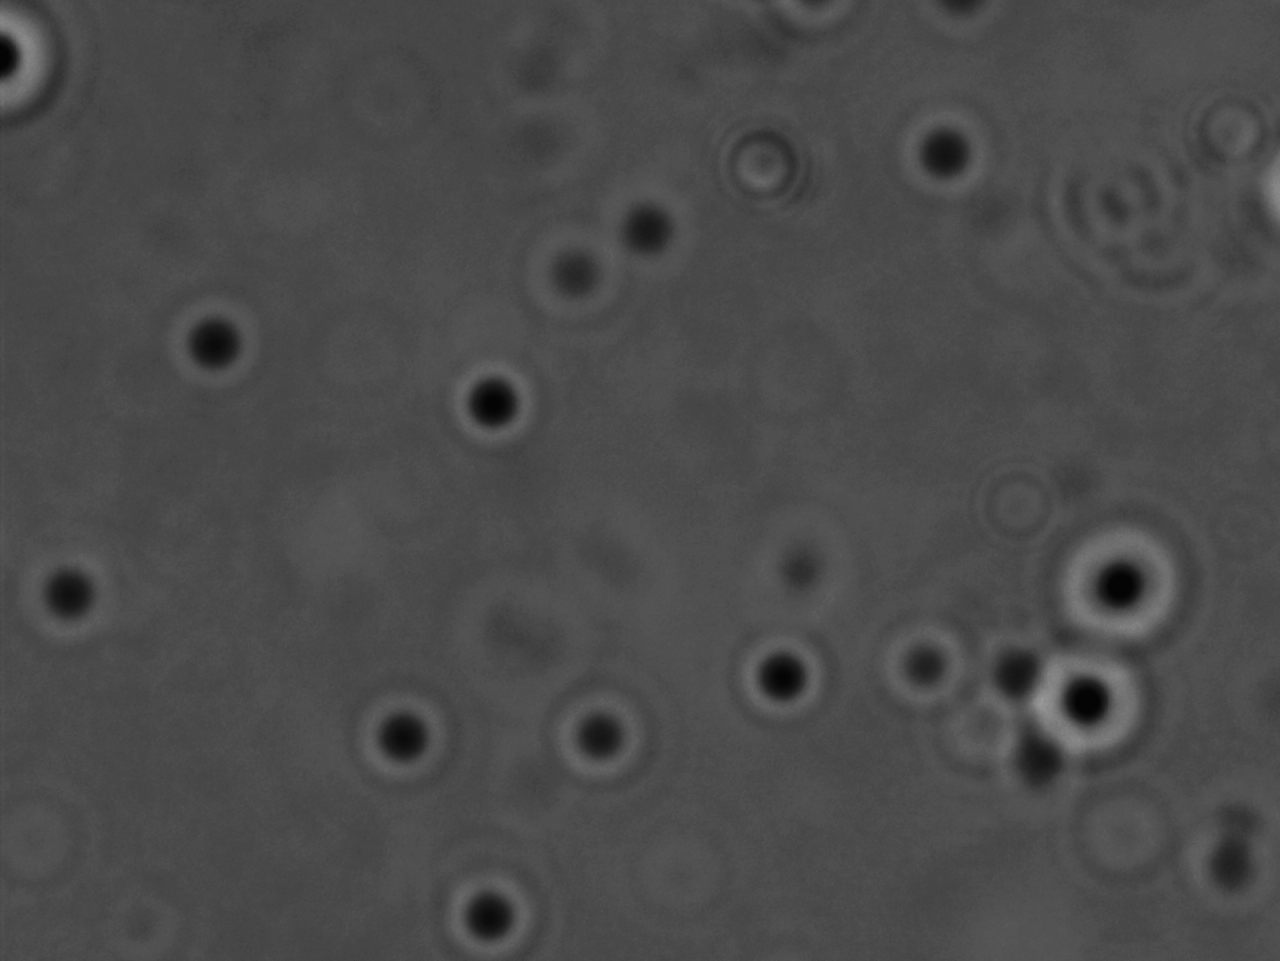depth:-32: (1048, 501, 1205, 656), (1007, 633, 1161, 783)
